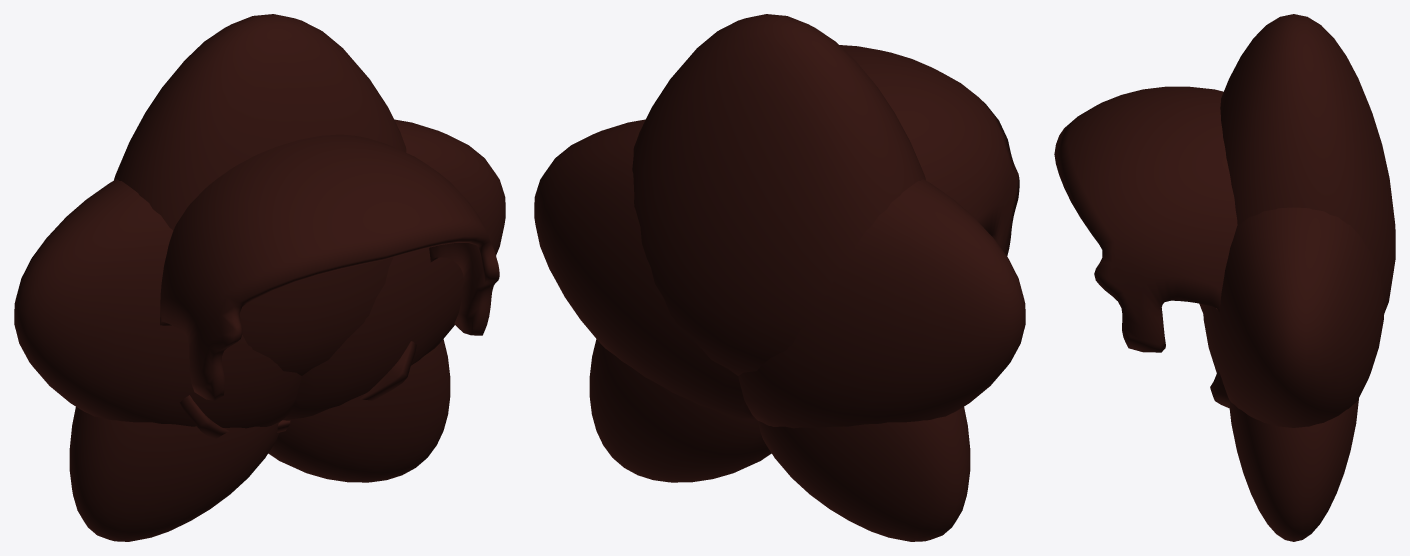
File: star.fbx
The picture shows the model from 3 angles, left to right: view 1: azimuth 30°, elevation 25°; view 2: azimuth 150°, elevation 25°; view 3: azimuth 270°, elevation 25°; orthographic projection. The views are drawn at different scales.
Visible parts, largest first — view 1: Cube.067, buzz höher, Cube.066, Cube.068; view 2: Cube.067, Cube.066, Cube.068, buzz höher; view 3: buzz höher, Cube.067, Cube.066, Cube.068.
Part boxes in pixels (box(x1,y1,x2,y2)): Cube.067: box(14, 119, 505, 428); buzz höher: box(160, 134, 499, 439); Cube.066: box(114, 14, 406, 375); Cube.068: box(69, 339, 450, 541); Cube.067: box(534, 119, 1025, 428); Cube.066: box(632, 14, 925, 375); Cube.068: box(589, 339, 970, 541); buzz höher: box(839, 45, 1019, 256); buzz höher: box(1054, 86, 1237, 408); Cube.067: box(1203, 207, 1384, 427); Cube.066: box(1199, 14, 1395, 313); Cube.068: box(1229, 398, 1358, 541).
Bounding box in the file's own units: 205 × 198 × 134.
